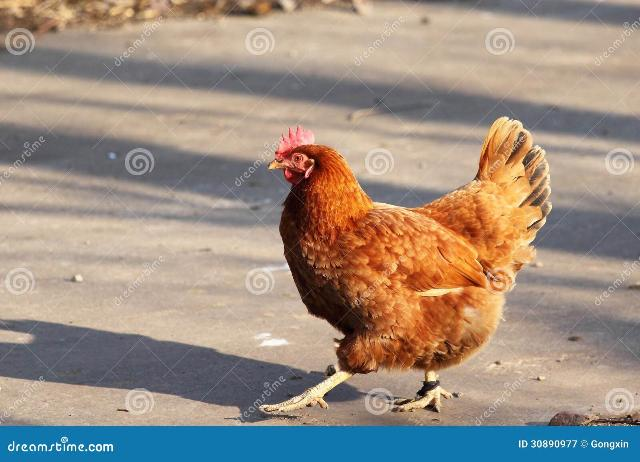Chicken: (263, 117, 553, 411)
